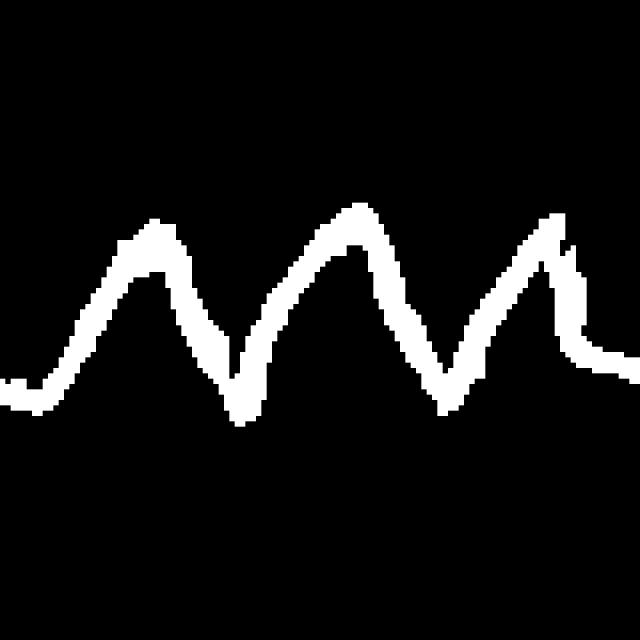resistor: (18, 191, 624, 469)
